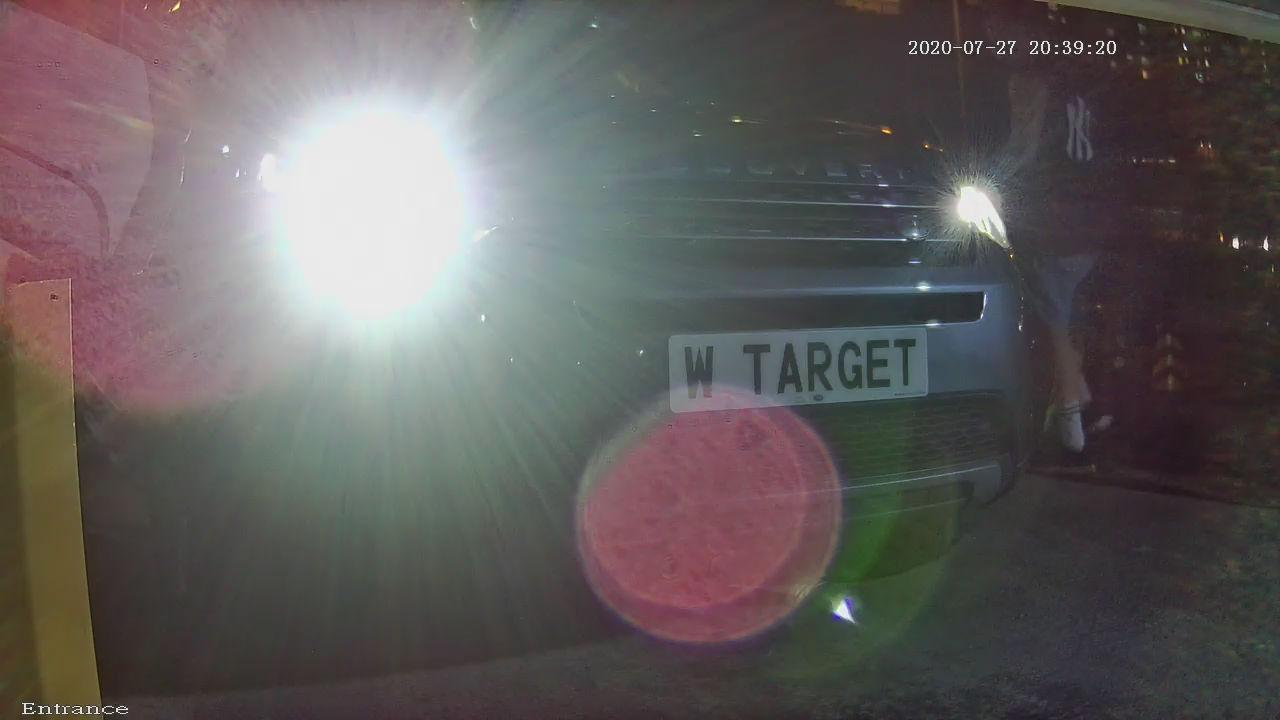privatecar: (109, 4, 1115, 669)
